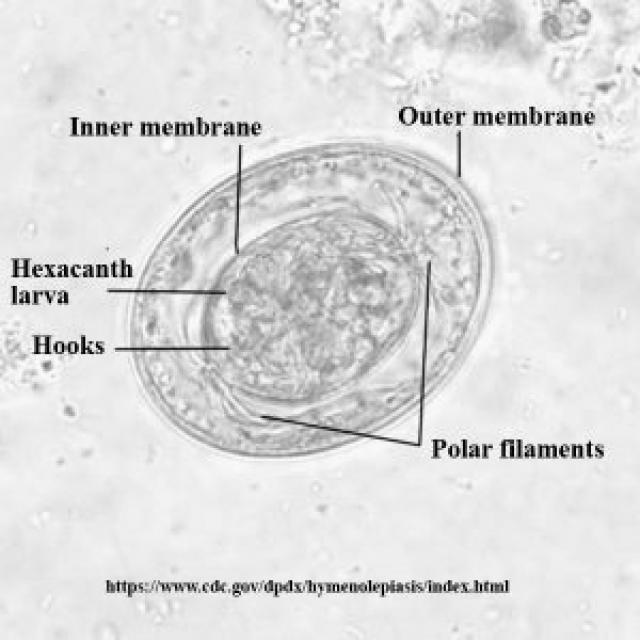Hymenolepis: (124, 135, 497, 462)
